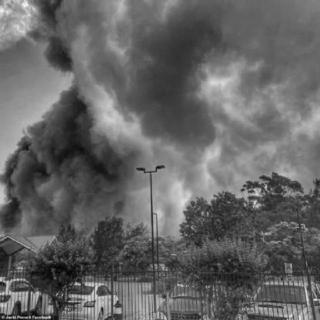Fire: (72, 120, 312, 242)
Smoke: (5, 1, 317, 177)
